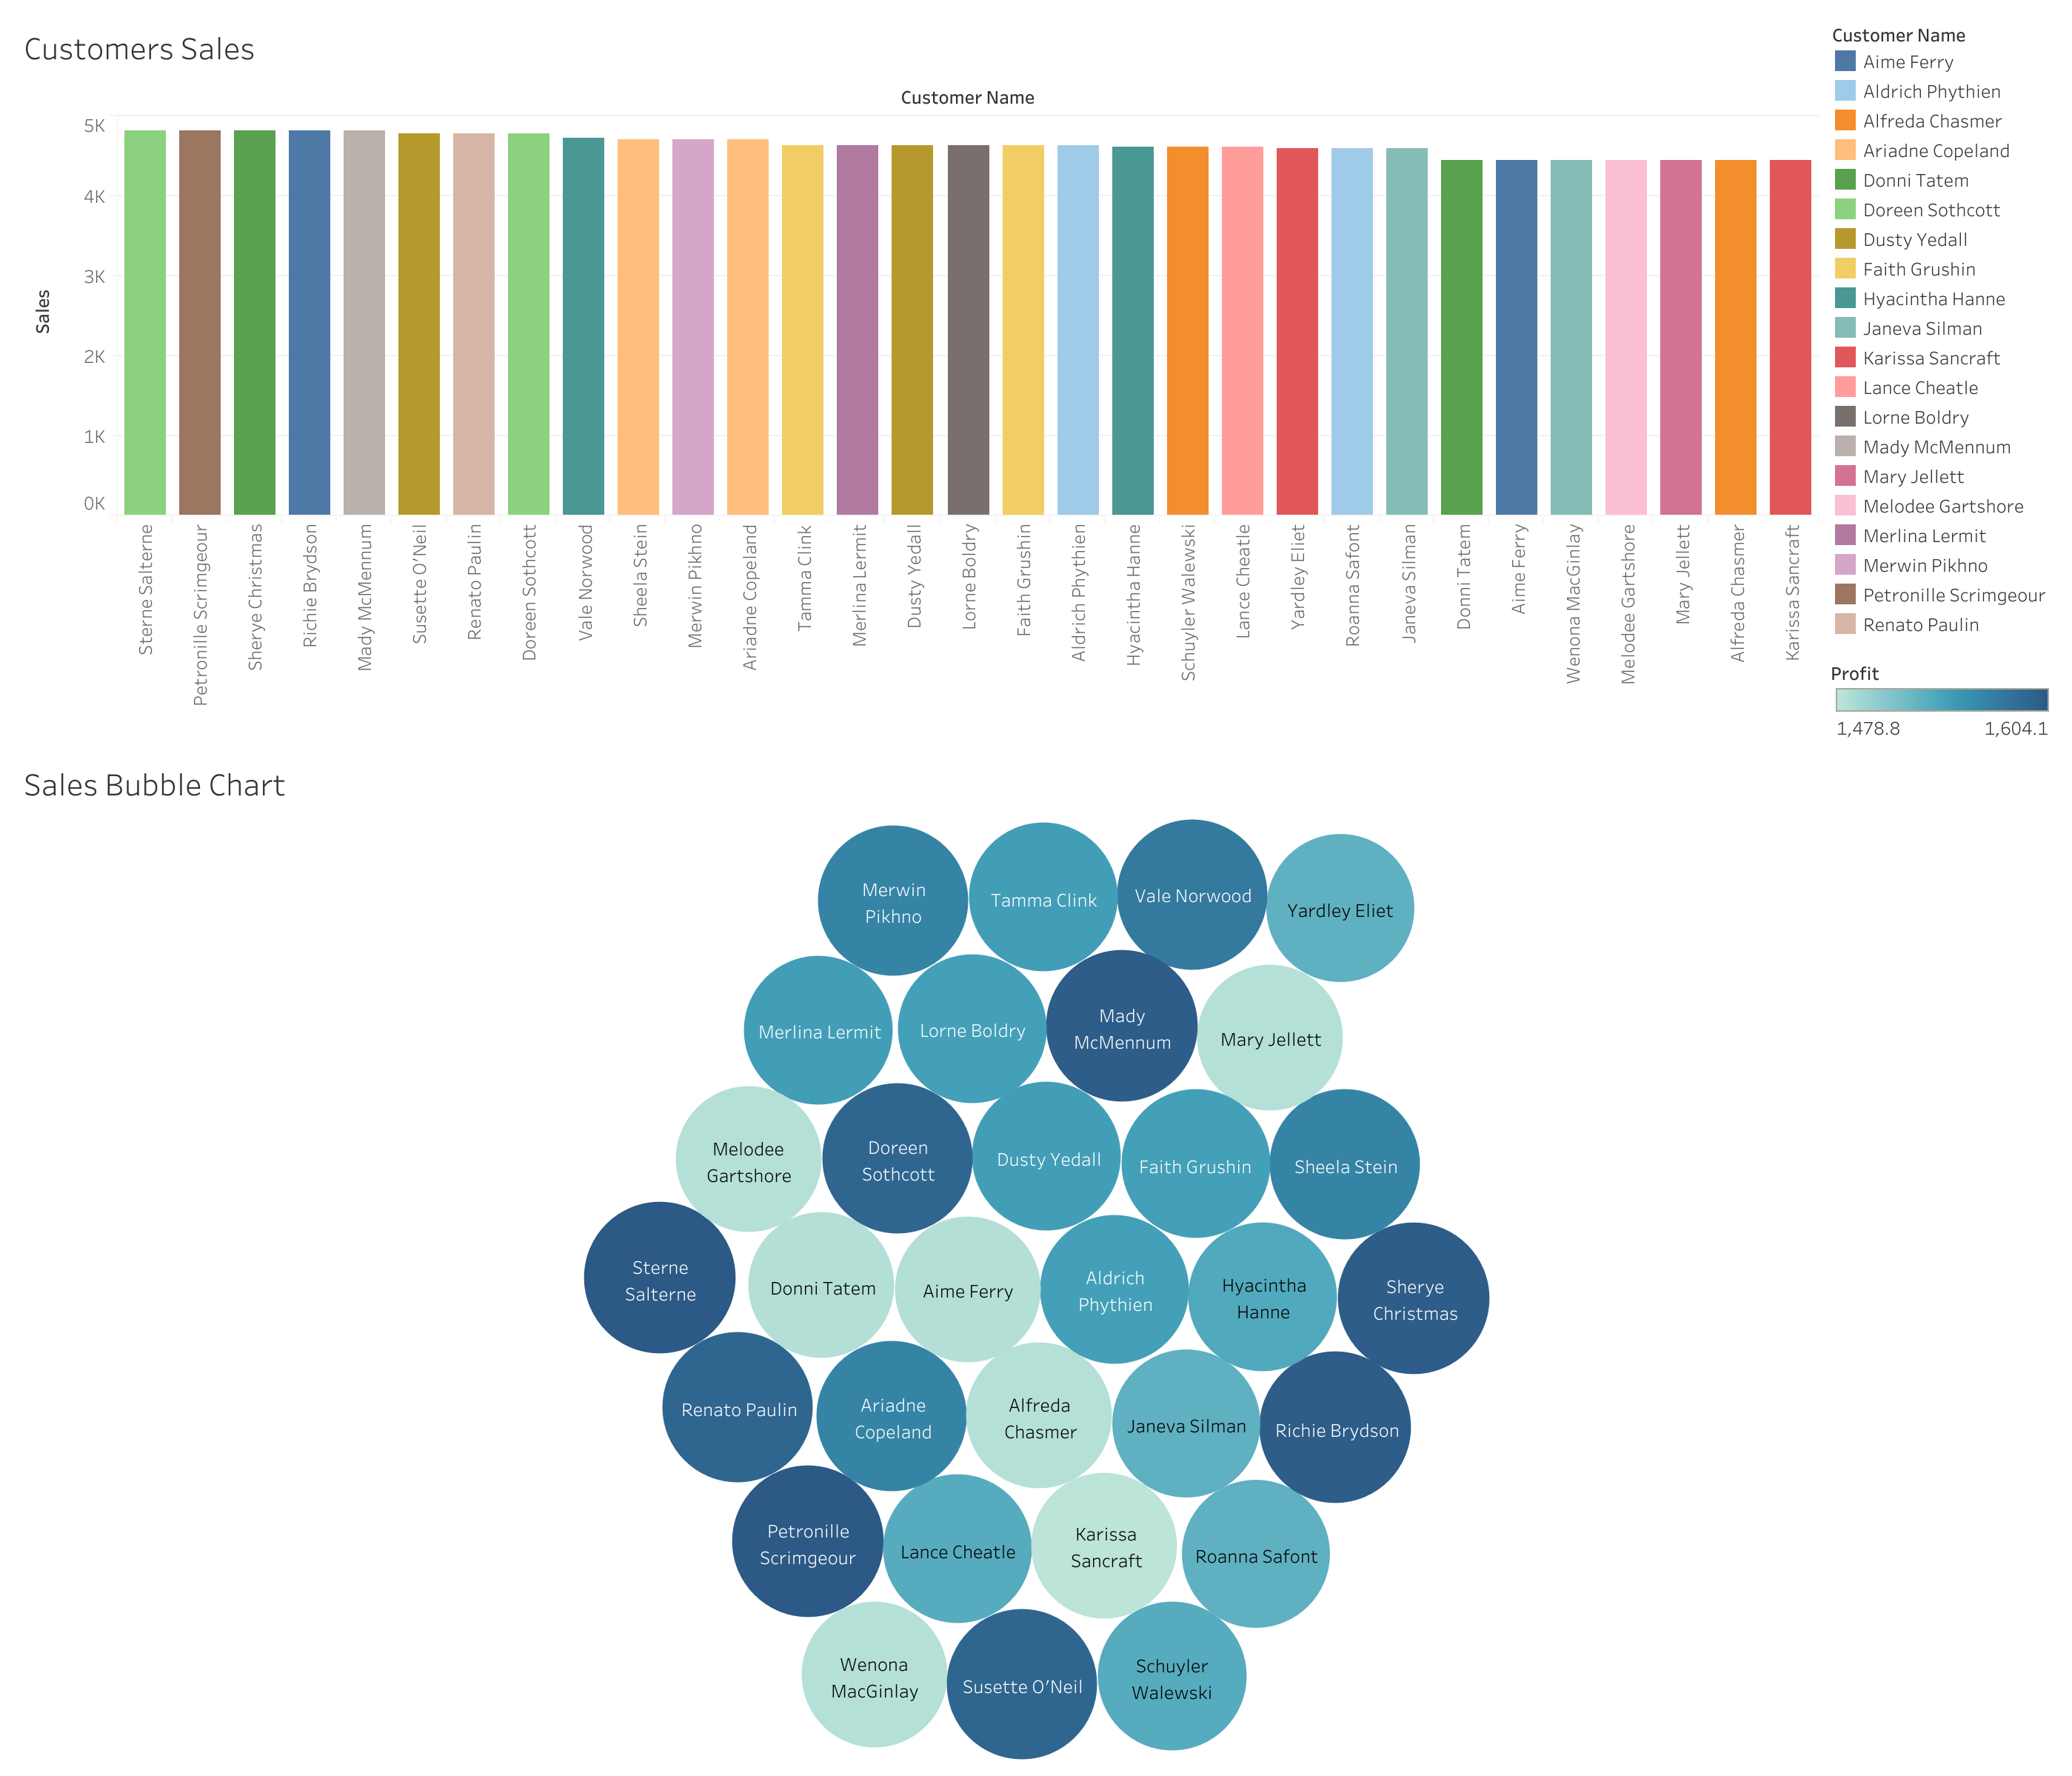

Layout of this report page (visuals, bound fields, positions):
{"tool":"tableau","page":{"name":"Dashboard","canvas":[1400,1200],"ordinal":0},"visuals":[{"type":"worksheet","title":"Customers Sales","mark":"Automatic","rows":["Sales"],"cols":["Customer Name"],"box":[8,8,1224,497.2]},{"type":"legend","title":"Customers Sales","param":"[federated.1uhyjfk06uq2f017n3htc1m6brfw].[none:Customer Name:nk]","box":[1232,8,160,432.2]},{"type":"legend","title":"Sales Bubble Chart","param":"[federated.1uhyjfk06uq2f017n3htc1m6brfw].[sum:Calculation_1524235375796224:qk]","box":[1232,440.2,160,65]},{"type":"worksheet","title":"Sales Bubble Chart","mark":"Circle","box":[8,505.2,1384,686.8]}]}

Visuals, with their boxes in screenshot pixels (x1, y1, x2, y2), scaled from the page's 1400x1200 canvas onto the 2072x1776 screenshot:
"Customers Sales" worksheet: pyautogui.locateOnScreen(12, 12, 1823, 748)
"Customers Sales" legend: pyautogui.locateOnScreen(1823, 12, 2060, 652)
"Sales Bubble Chart" legend: pyautogui.locateOnScreen(1823, 652, 2060, 748)
"Sales Bubble Chart" worksheet (Circle marks): pyautogui.locateOnScreen(12, 748, 2060, 1764)
